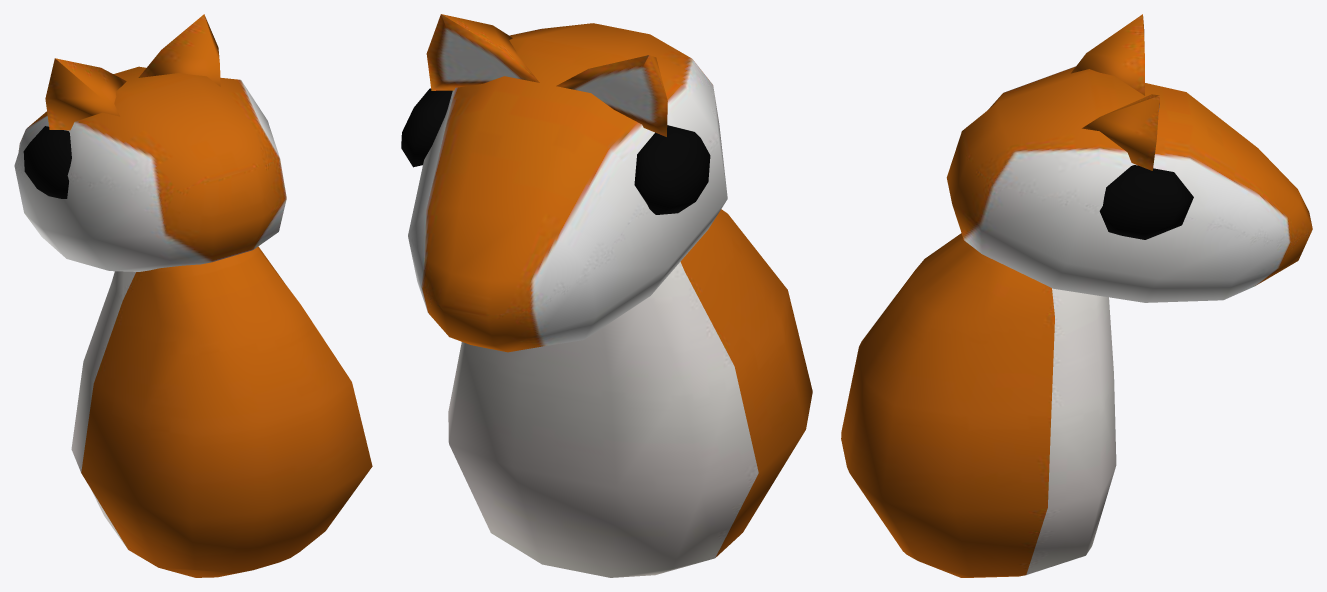
File: baby02.FBX
3 views of the same model, side by side, from view 1: azimuth 30°, elevation 25°; view 2: azimuth 150°, elevation 25°; view 3: azimuth 270°, elevation 25° (orthographic). The views are drawn at different scales.
Visible parts, largest first — view 1: baby02; view 2: baby02; view 3: baby02.
Boxes of the visible parts, x1=… form: baby02: x1=14, y1=14, x2=372, y2=577; baby02: x1=401, y1=14, x2=812, y2=577; baby02: x1=841, y1=14, x2=1312, y2=577.
Size of the model in its own units: 0.0389 by 0.0727 by 0.0621.
